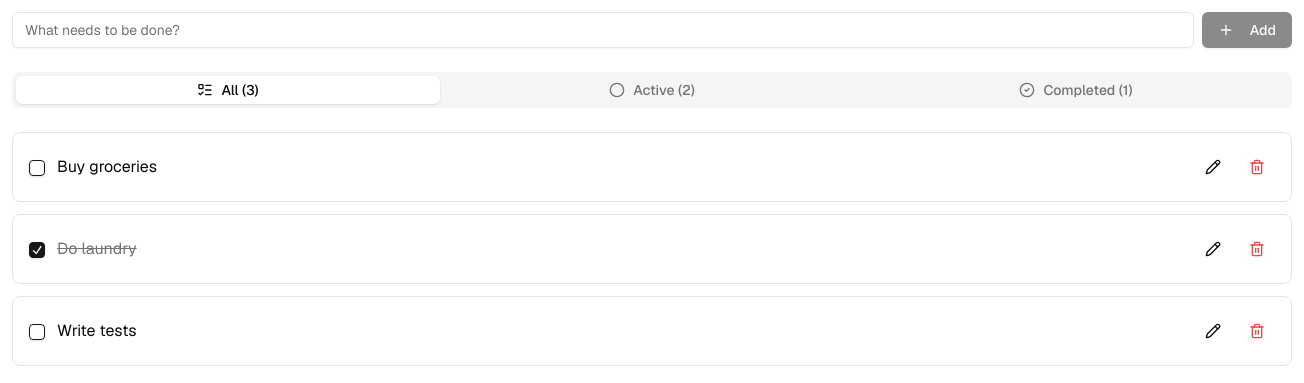
Test case: TodoList › should filter to show only active todos
Click the tab "Active (2)". click: {"x": 652, "y": 90}
box: [440,76,864,104]
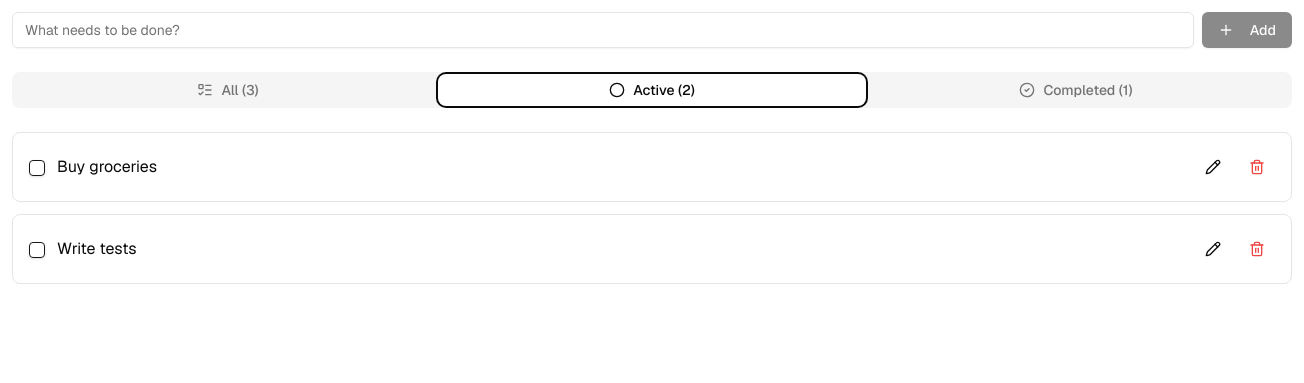
Expected: the text "Buy groceries" is shown, [57,156,157,177]
Now the text "Do laundry" is gone
